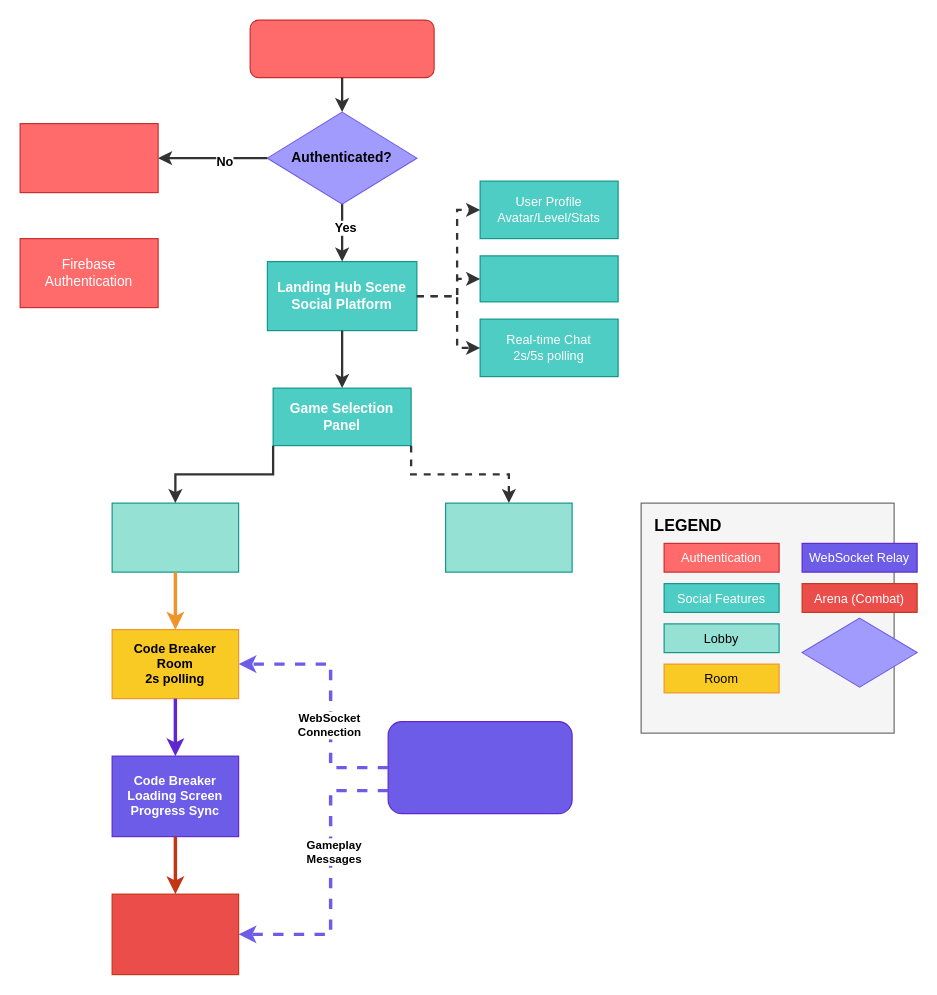
The diagram is 937 pixels wide and 995 high, and some of its shapes have lost their labels. The shapes that lost their labels are listed below. From the top down, each one's centre as x and y in pixels, then its label:
(x=341, y=48): User Opens App
(x=88, y=157): Login/Signup Screen
(x=548, y=278): Friend List
(x=175, y=537): Code Breaker Lobby 5s polling
(x=508, y=537): Akashic TCG (In Progress)
(x=859, y=652): Decision Point
(x=479, y=767): WebSocket Relay Render.com Server No Port Forwarding!
(x=175, y=934): Code Breaker Arena 1v1 Combat
